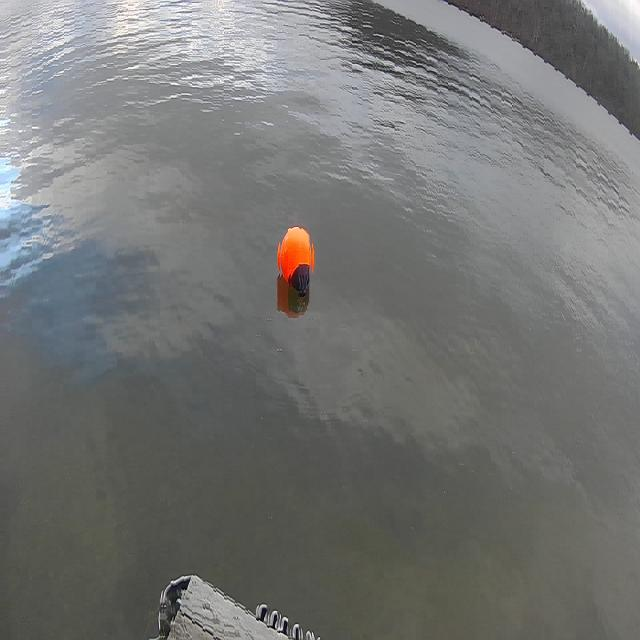Buoy: (274, 214, 320, 314)
